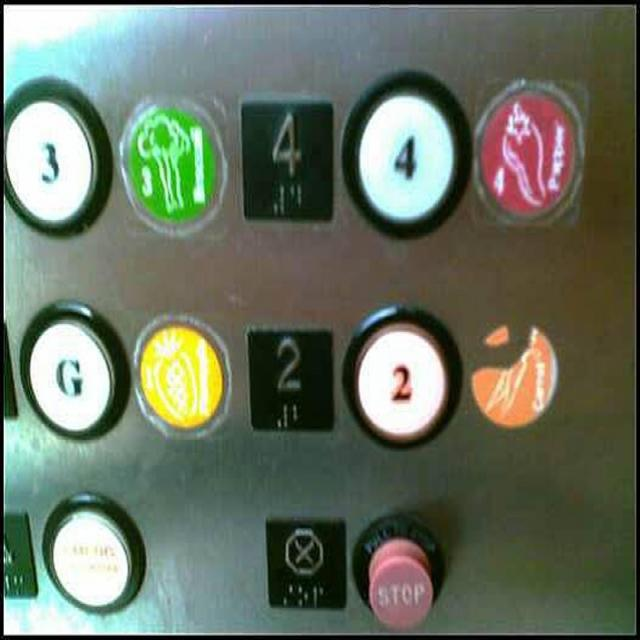2: (339, 299, 463, 452), (244, 320, 337, 435)
3: (2, 69, 116, 243)
4: (338, 61, 472, 244), (237, 92, 337, 224)
G: (15, 292, 130, 447)
stop: (260, 512, 349, 615)
text_STOP: (348, 505, 451, 632)
text_blur: (36, 484, 149, 617)
unknown: (468, 76, 586, 233), (118, 85, 236, 239), (129, 308, 235, 441), (466, 314, 561, 430)
